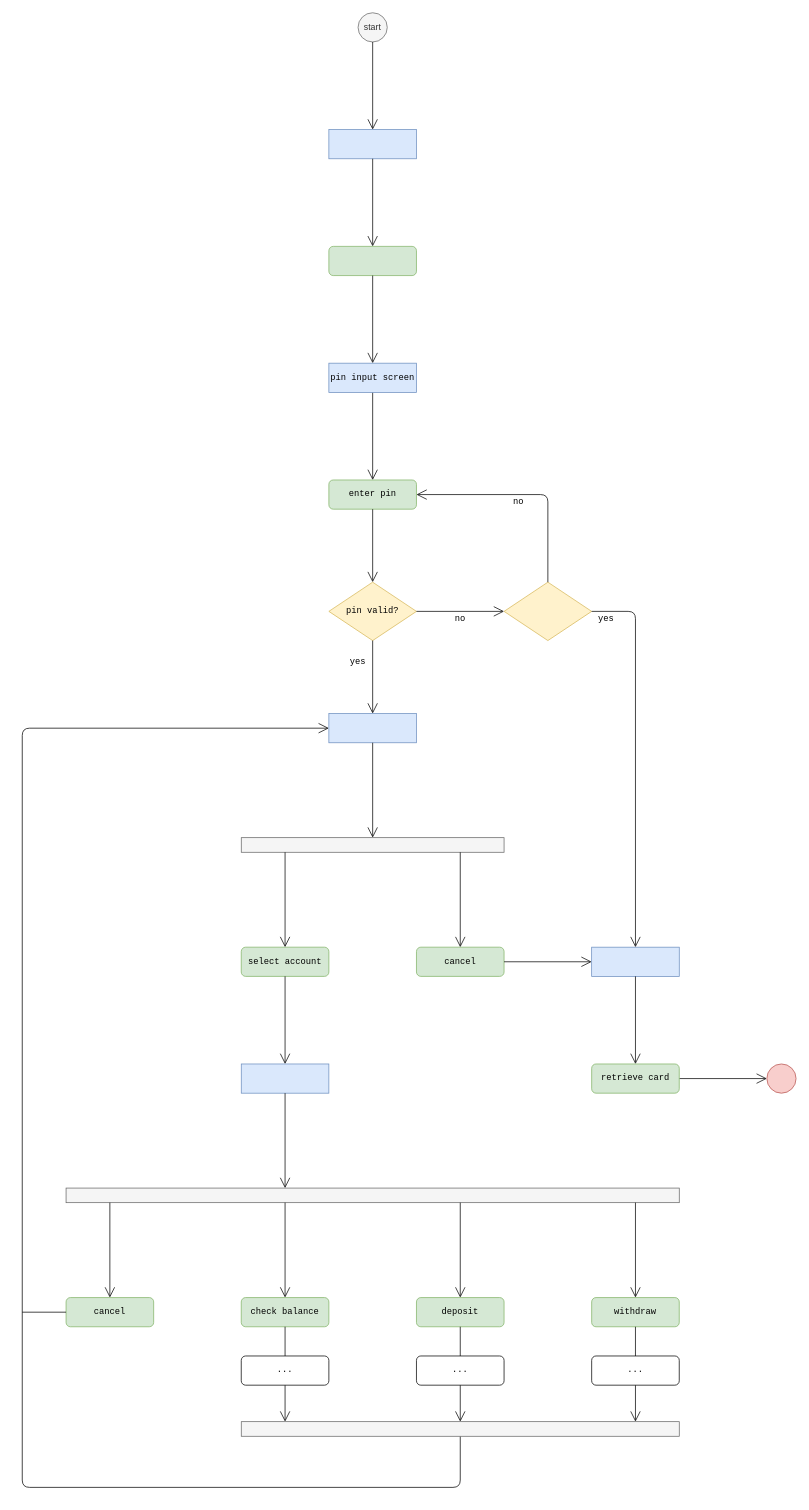
This 809x1510 diagram has some shape labels left out. Here are the shapes that lost their labels. From the top down, the centre of each, then its label:
the point at 372,144: card insert screen
the point at 372,261: insert card
the point at 547,611: 3rd invalid attempt?
the point at 372,728: account selection screen
the point at 635,961: eject card
the point at 285,1078: action selection screen
the point at 781,1078: end
